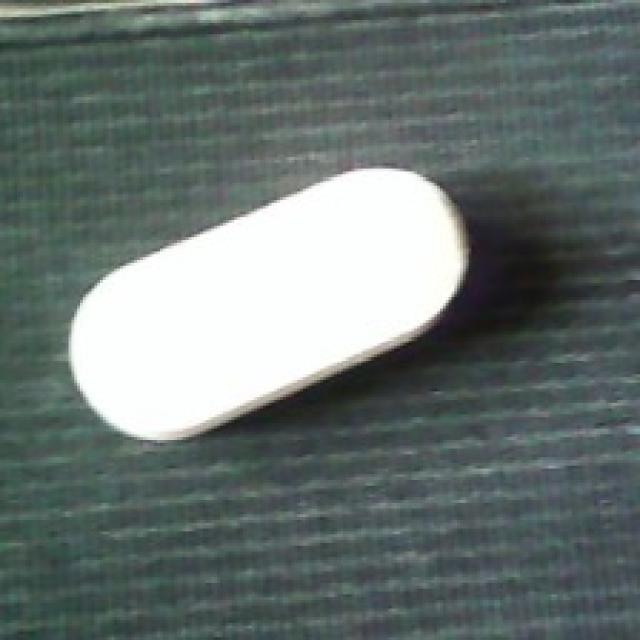no-defect: (66, 162, 477, 446)
